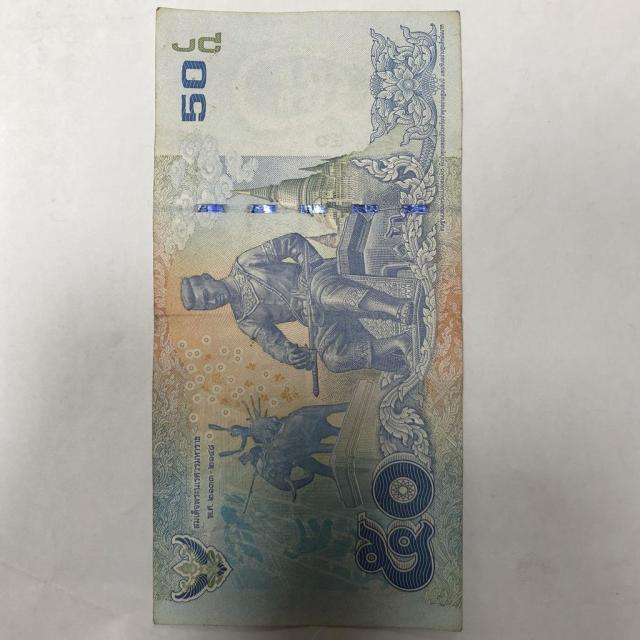THAI50: (151, 8, 462, 630)
